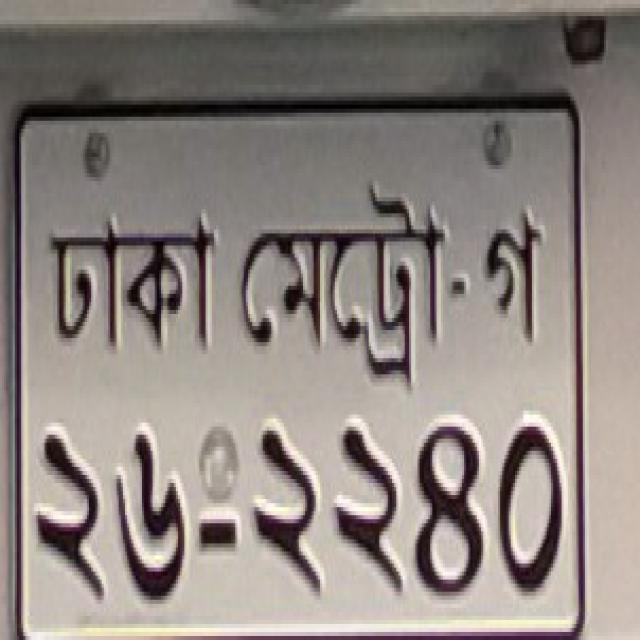cng: (15, 92, 584, 630)
